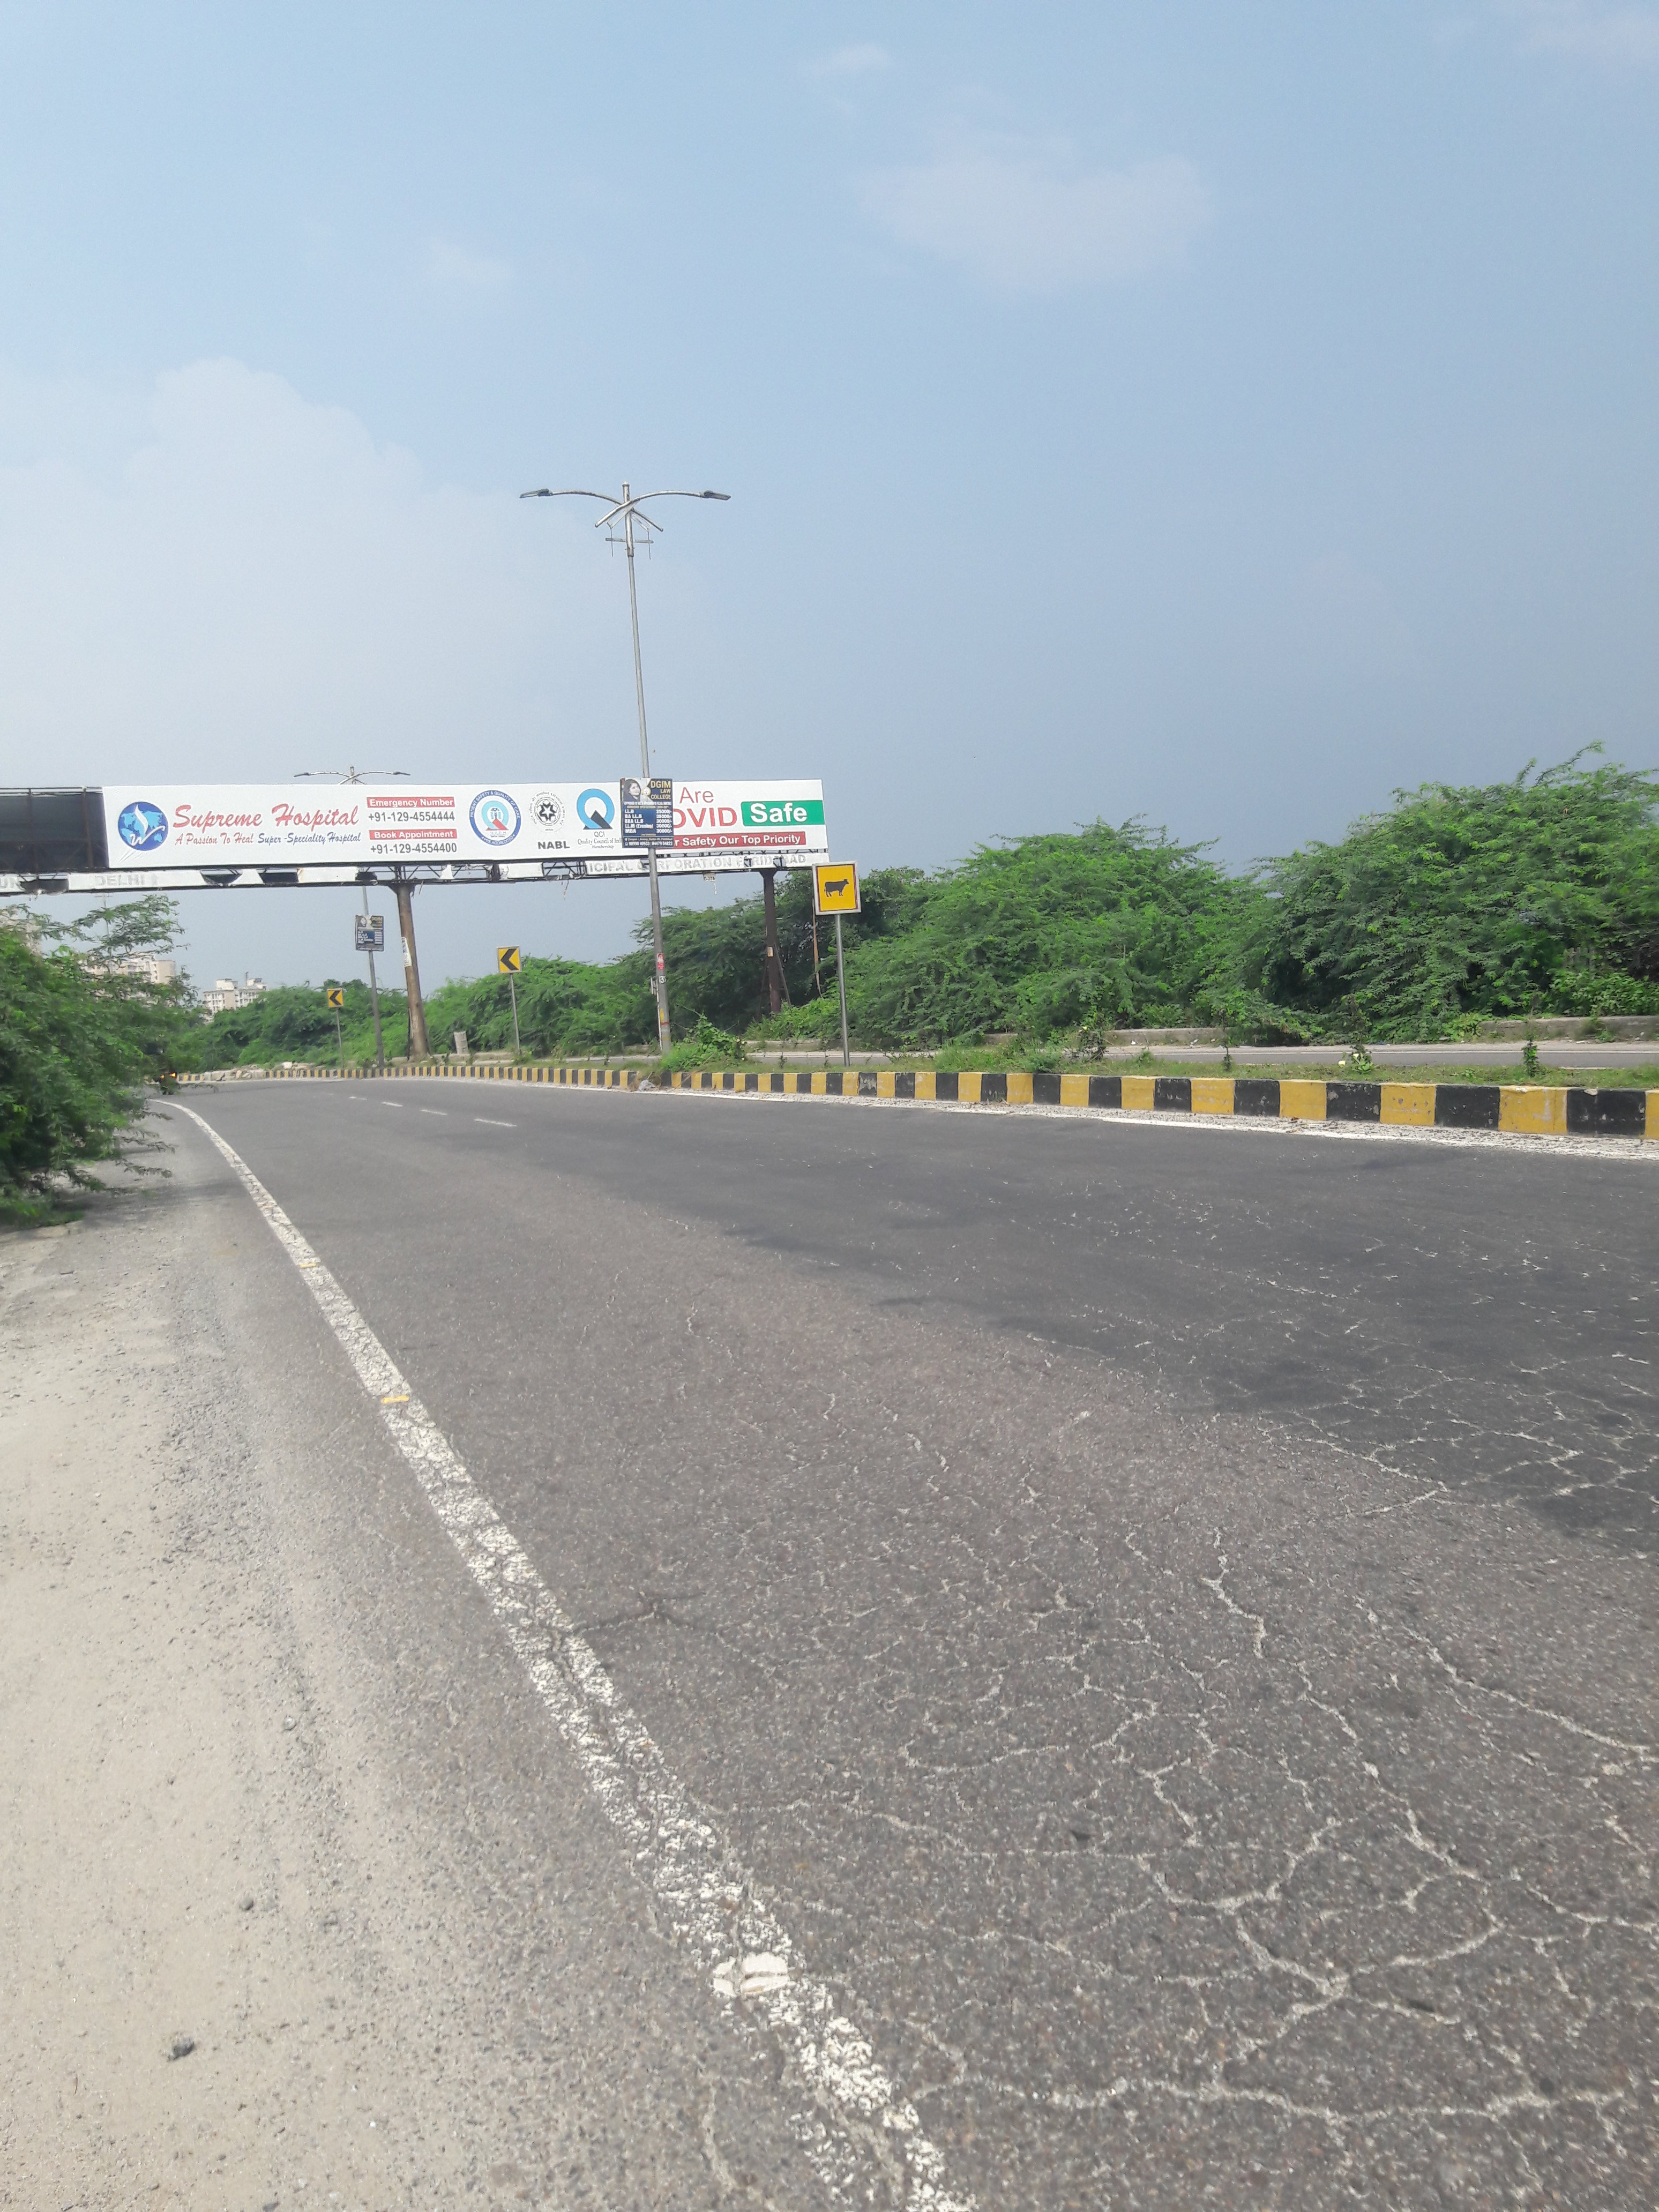traffic_sign: (812, 860, 861, 916), (497, 946, 521, 974), (326, 988, 343, 1008)
